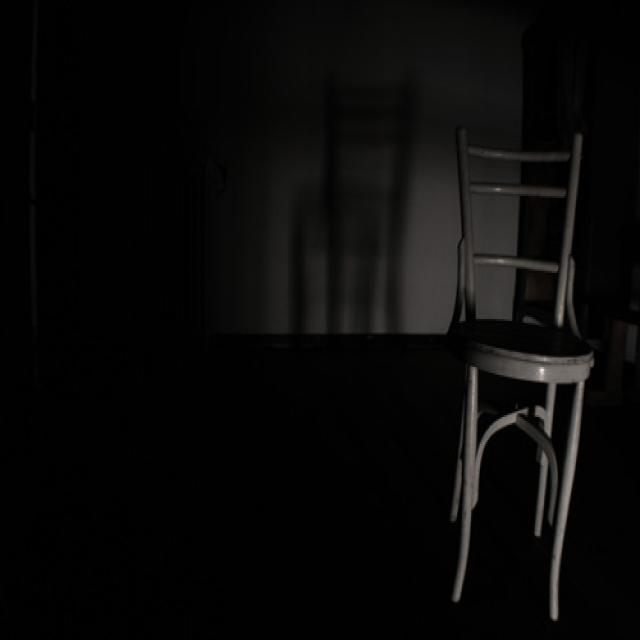chair: (447, 106, 621, 640)
